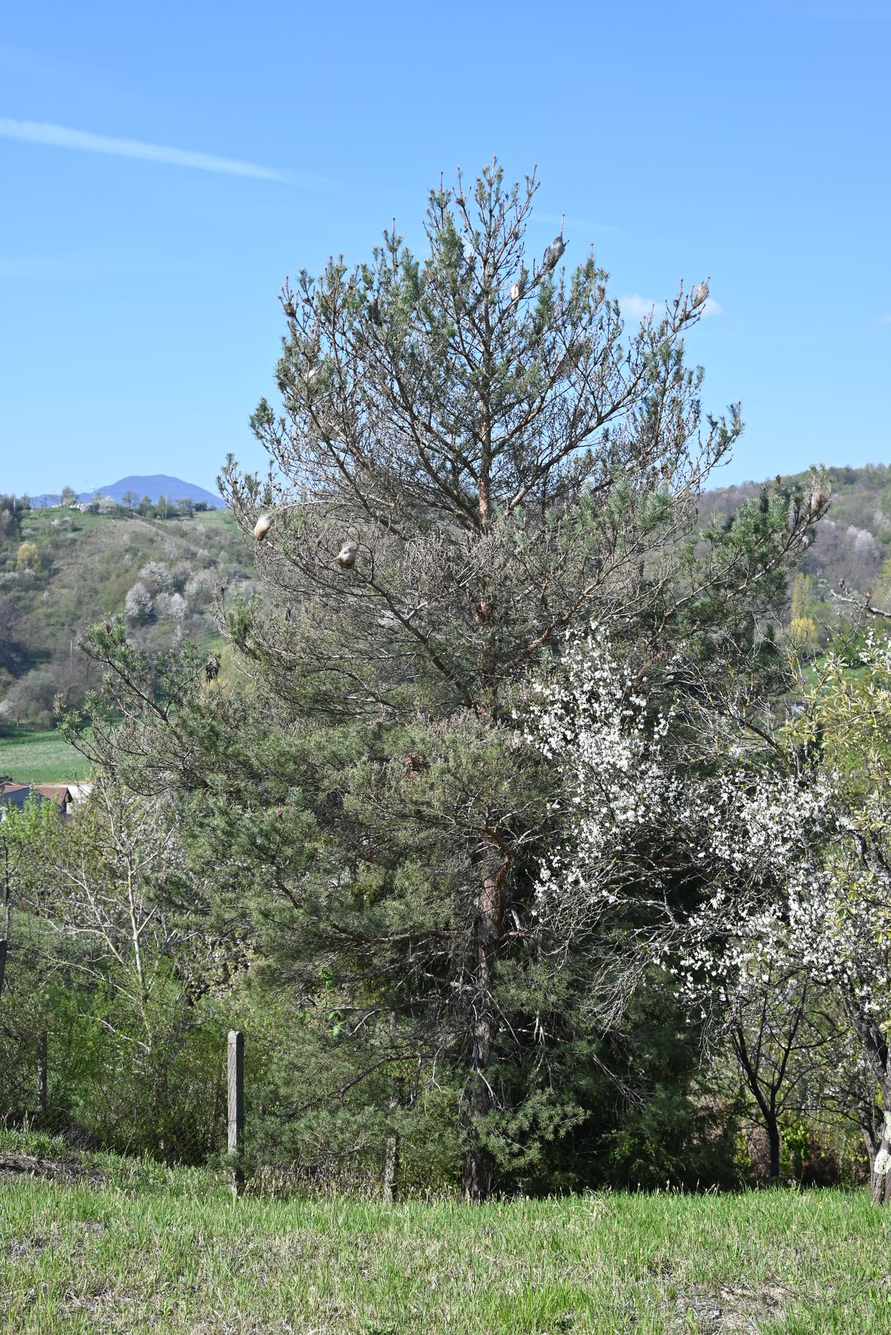thaumatopoea pityocampa jajno gnijezdo: (684, 273, 712, 313), (540, 233, 567, 264), (253, 511, 272, 540), (805, 490, 827, 512), (334, 543, 352, 565)
